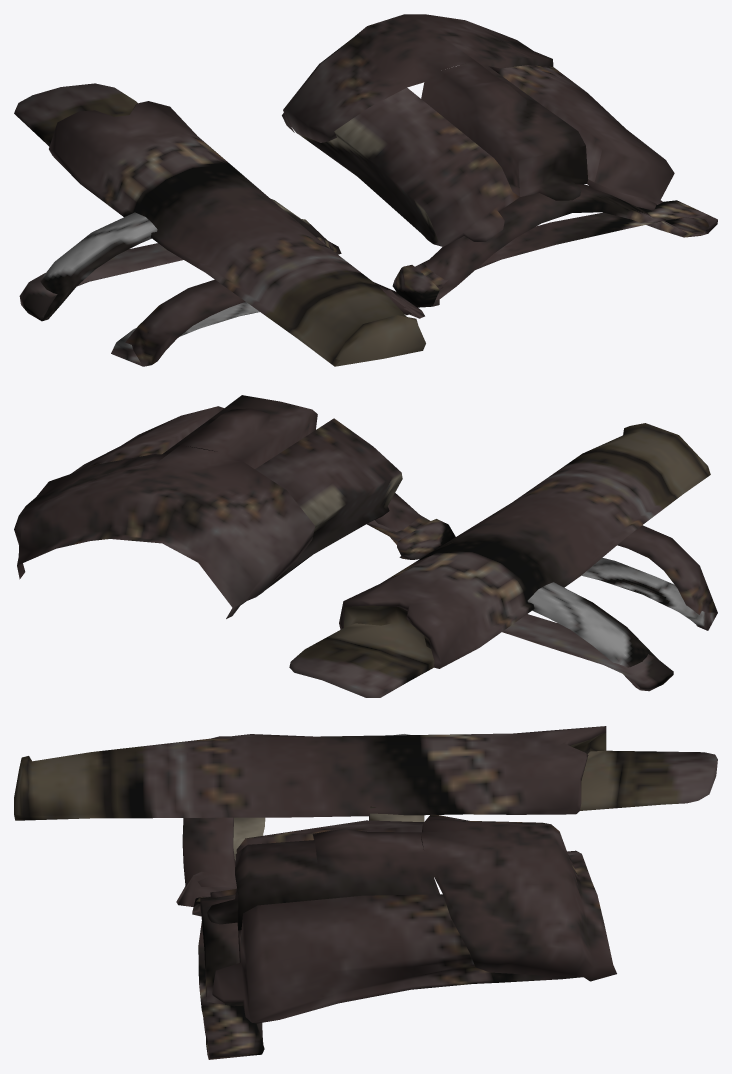
The model's file is ManhunterHolster_Ground.fbx.
3 renders of one model, top to bottom at view 1: azimuth 30°, elevation 25°; view 2: azimuth 150°, elevation 25°; view 3: azimuth 270°, elevation 25°, orthographic. The views are drawn at different scales.
Visible parts, largest first — view 1: cross_mo_mat03_holster_pockets; view 2: cross_mo_mat03_holster_pockets; view 3: cross_mo_mat03_holster_pockets.
Part boxes in pixels (x1,y1,x2,y2): cross_mo_mat03_holster_pockets: (14, 14, 717, 366); cross_mo_mat03_holster_pockets: (14, 395, 717, 697); cross_mo_mat03_holster_pockets: (14, 726, 717, 1059).
Size of the model in its own units: 0.2196 by 0.0484 by 0.2092.
